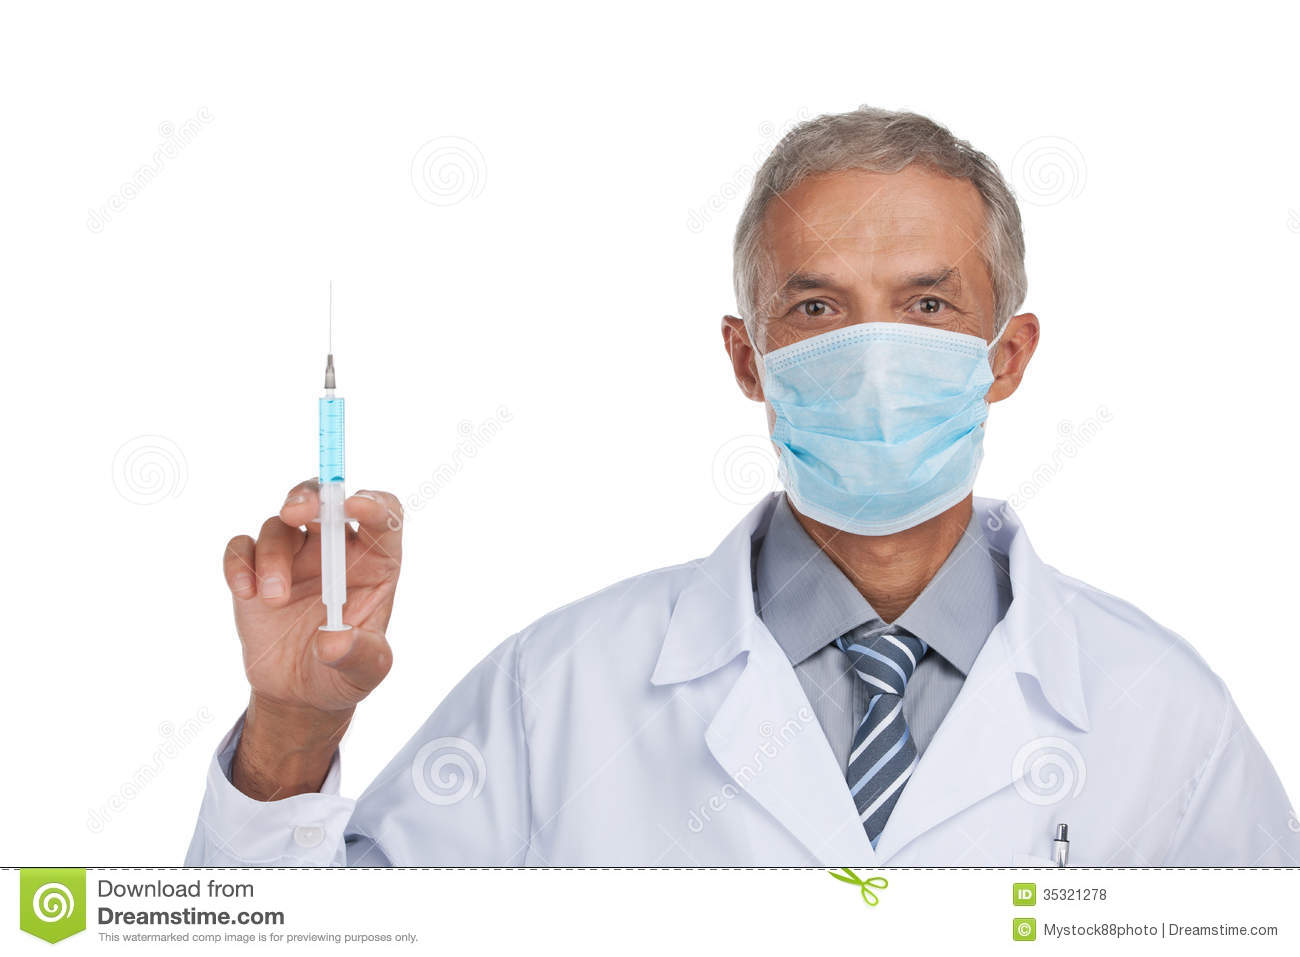mask: (754, 327, 992, 532)
